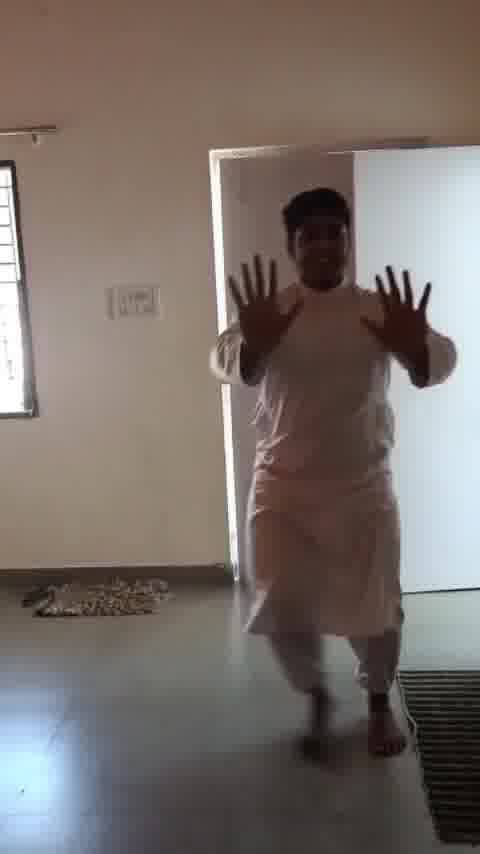duck: (205, 179, 467, 758)
